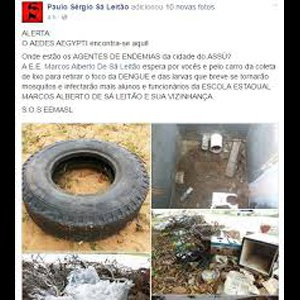tire: (24, 139, 149, 242)
